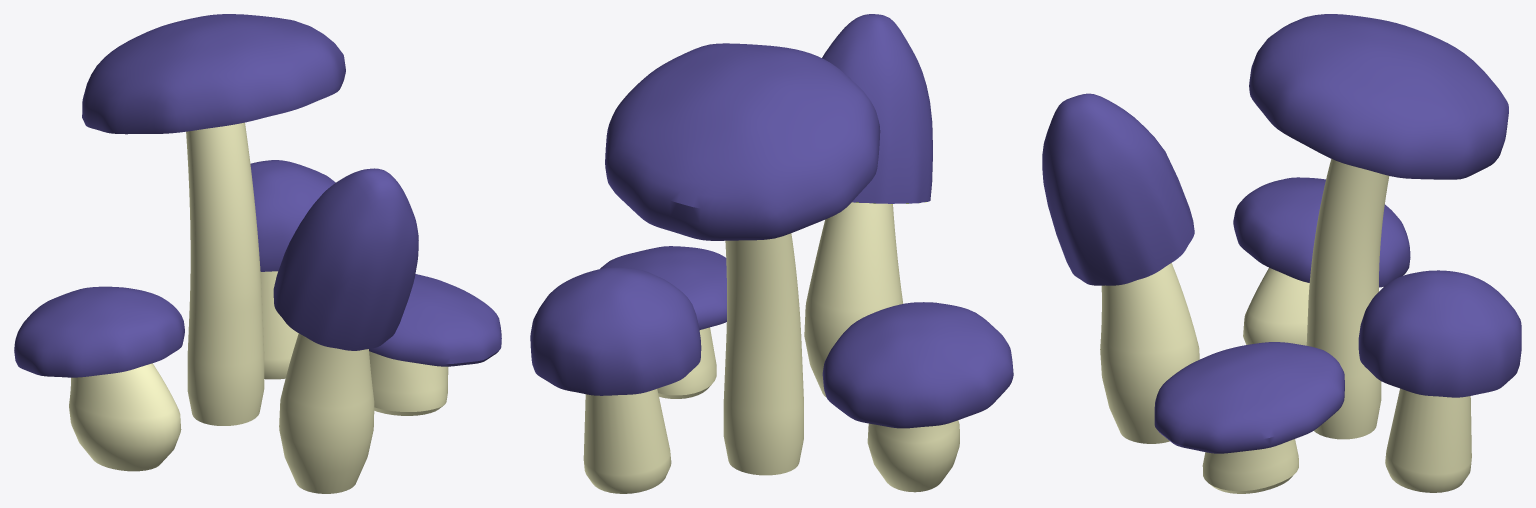
Rendered from mushrooms_two.glb.
3 renders of one model, left to right at view 1: azimuth 30°, elevation 25°; view 2: azimuth 150°, elevation 25°; view 3: azimuth 270°, elevation 25°, orthographic. The views are drawn at different scales.
Parts seen in each view (by area): view 1: mushesTwo; view 2: mushesTwo; view 3: mushesTwo.
Boxes of the visible parts, x1,y1,x2,y2 form: mushesTwo: (14, 14, 501, 493); mushesTwo: (530, 14, 1013, 493); mushesTwo: (1042, 14, 1521, 493).
Size of the model in its own units: 1.36 by 1.19 by 1.29.
